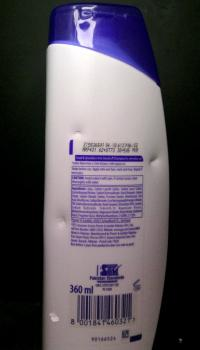dent_unacceptable: (48, 307, 63, 328), (52, 214, 68, 231), (147, 152, 163, 167), (68, 128, 85, 140)
